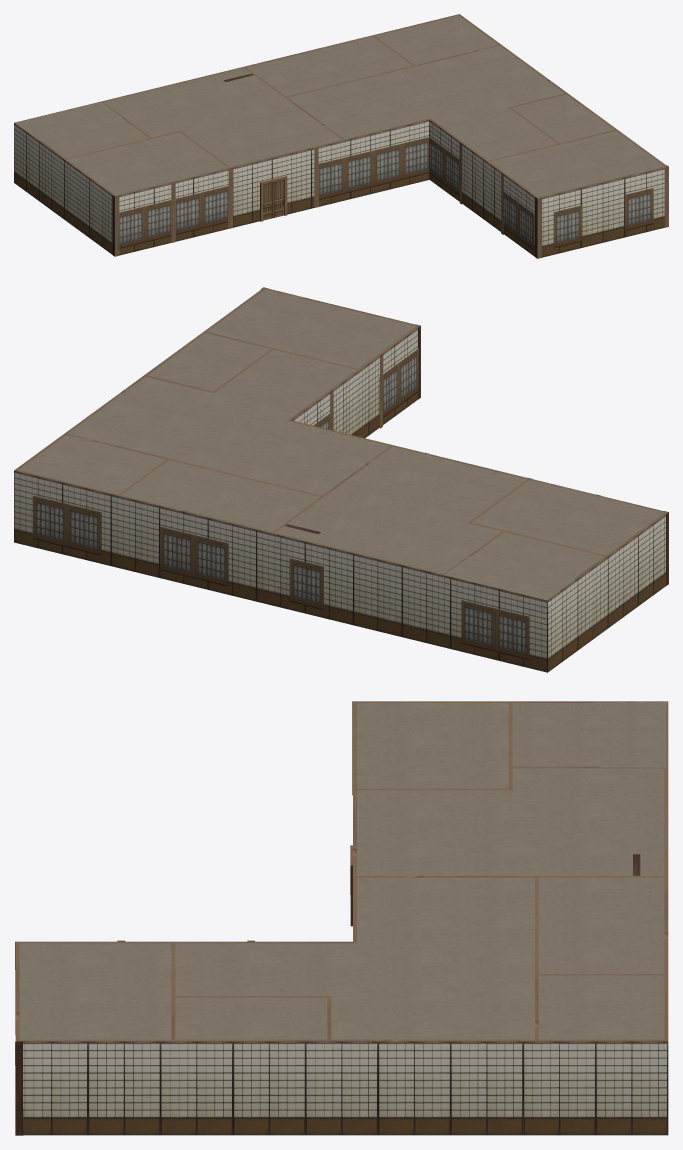
File: rxi_1f.FBX
3 renders of one model, top to bottom at view 1: azimuth 30°, elevation 25°; view 2: azimuth 150°, elevation 25°; view 3: azimuth 270°, elevation 25°, orthographic. The views are drawn at different scales.
Visible parts, largest first — view 1: DrawCall_1764, Group016, Rectangle004, DrawCall_1517, DrawCall_1556; view 2: DrawCall_1764, Group016, Rectangle004, DrawCall_1517; view 3: DrawCall_1764, Group016, DrawCall_1517.
Part boxes in pixels (x1,y1,x2,y2): DrawCall_1764: [16, 15, 664, 197]; Group016: [14, 14, 667, 257]; Rectangle004: [119, 137, 653, 249]; DrawCall_1517: [112, 143, 668, 258]; DrawCall_1556: [260, 176, 287, 221]; DrawCall_1764: [19, 289, 663, 599]; Group016: [14, 287, 668, 672]; Rectangle004: [33, 349, 529, 659]; DrawCall_1517: [260, 287, 668, 585]; DrawCall_1764: [19, 702, 666, 1039]; Group016: [15, 701, 668, 1135]; DrawCall_1517: [15, 701, 352, 1135].
Bounding box in the file's own units: 3205 × 432 × 2605.
